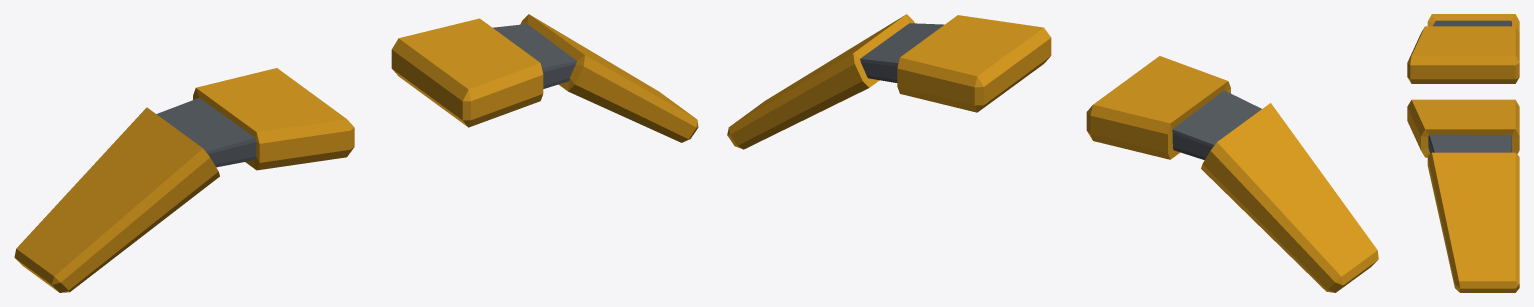
The model's file is Personal_Vehicle_04_Auxillary_Wings_Yellow.fbx.
3 renders of one model, left to right at view 1: azimuth 30°, elevation 25°; view 2: azimuth 150°, elevation 25°; view 3: azimuth 270°, elevation 25°, orthographic. The views are drawn at different scales.
Parts seen in each view (by area): view 1: Personal_Vehicle_04_Auxillary_Wings_Yellow; view 2: Personal_Vehicle_04_Auxillary_Wings_Yellow; view 3: Personal_Vehicle_04_Auxillary_Wings_Yellow.
Part boxes in pixels (<box>): Personal_Vehicle_04_Auxillary_Wings_Yellow: <box>14,14,698,292</box>; Personal_Vehicle_04_Auxillary_Wings_Yellow: <box>727,14,1378,292</box>; Personal_Vehicle_04_Auxillary_Wings_Yellow: <box>1407,14,1519,292</box>.
Size of the model in its own units: 166 by 33.44 by 33.49.
1 material, 1 textured.
